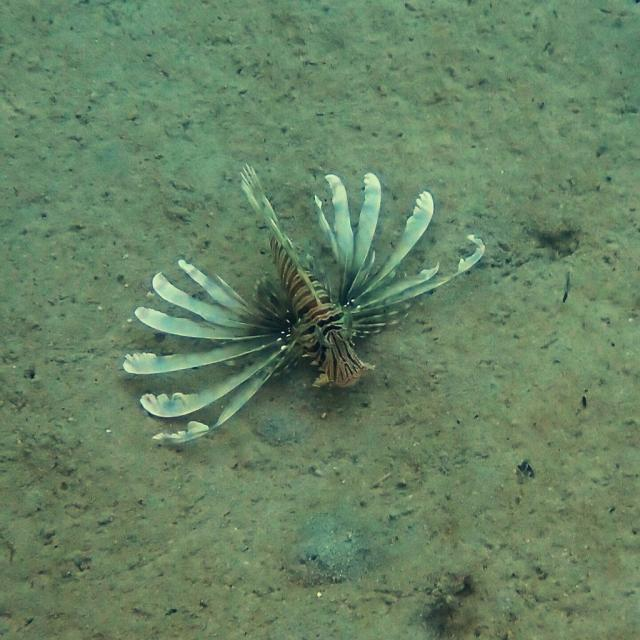Aslan Baligi: (120, 162, 486, 447)
